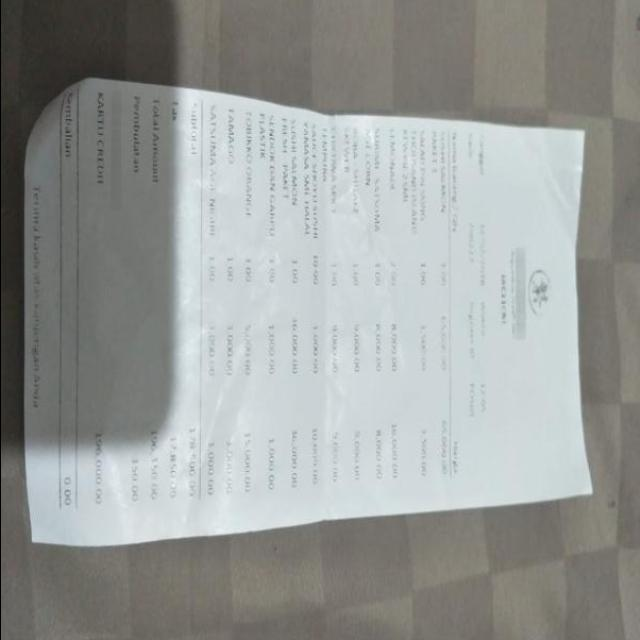kertas: (24, 80, 590, 545)
